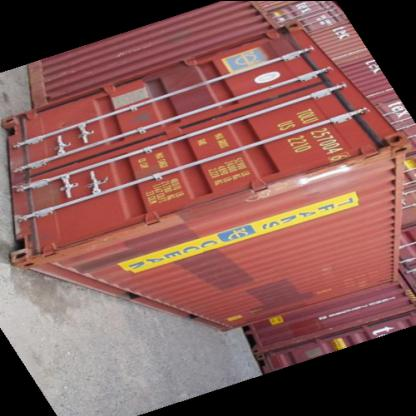Damage: (255, 156, 356, 200), (22, 226, 131, 264), (18, 171, 57, 230)
